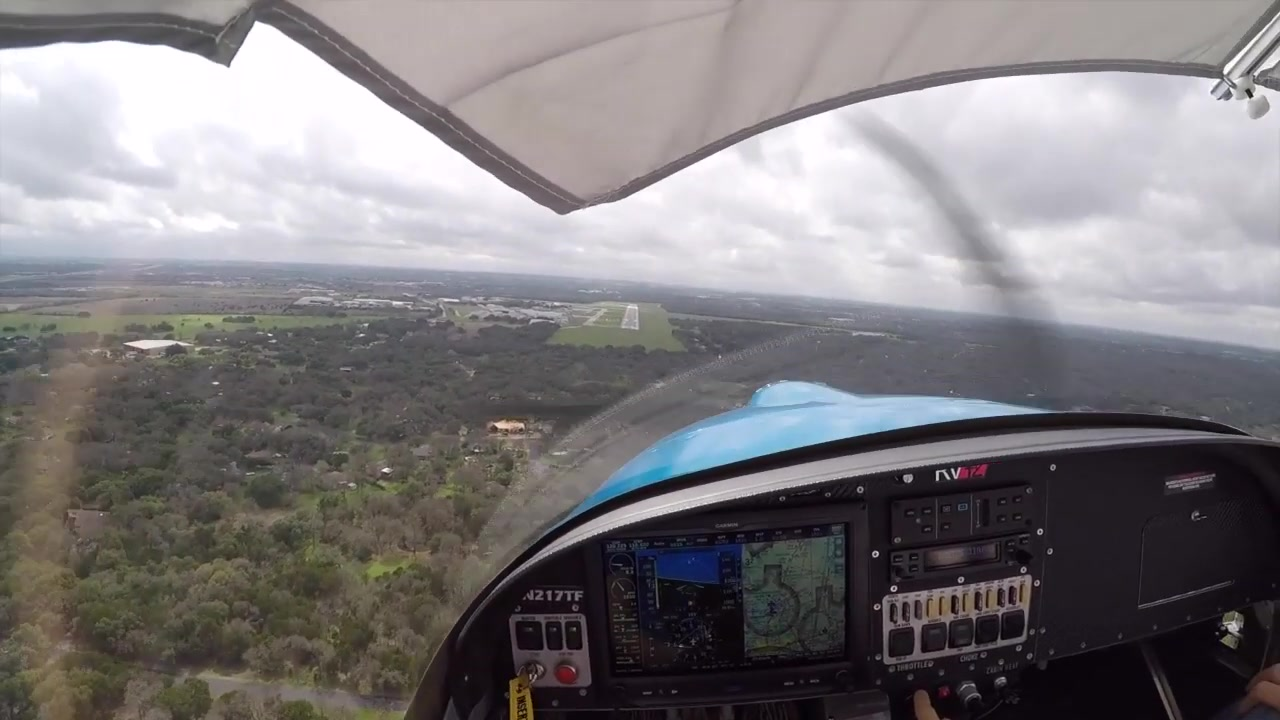runway: (618, 302, 640, 331)
